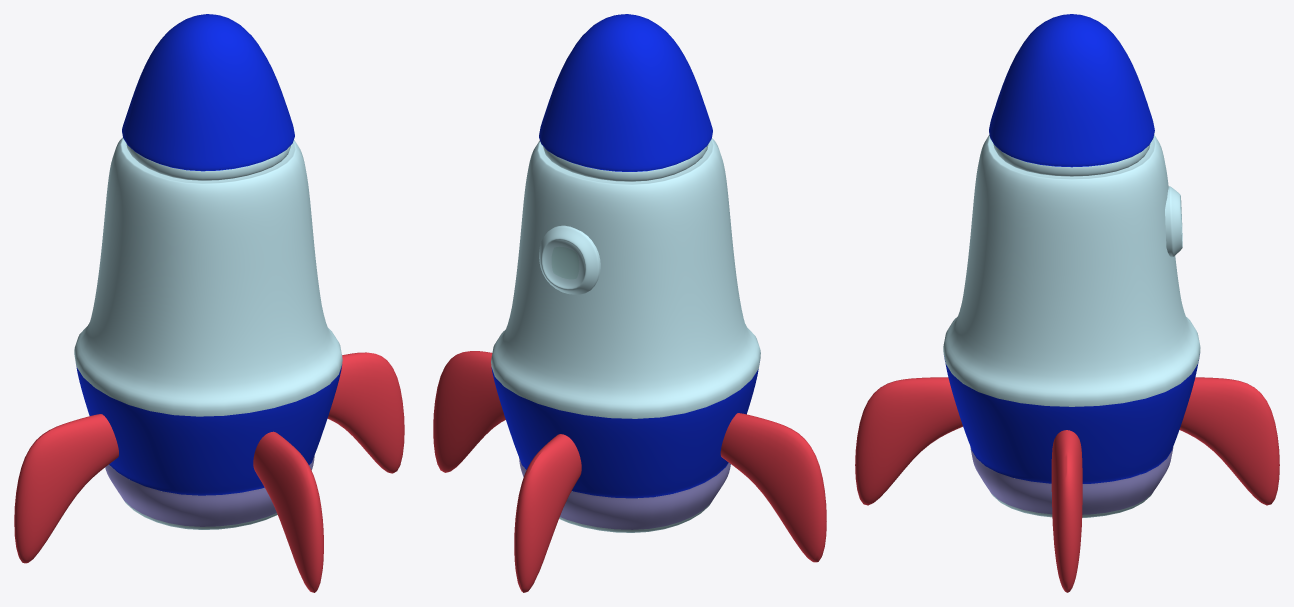
The model's file is fusee.glb.
3 views of the same model, side by side, from view 1: azimuth 30°, elevation 25°; view 2: azimuth 150°, elevation 25°; view 3: azimuth 270°, elevation 25° (orthographic). The views are drawn at different scales.
Parts seen in each view (by area): view 1: fusee; view 2: fusee; view 3: fusee.
Part boxes in pixels (x1,y1,x2,y2): fusee: (14, 14, 404, 592); fusee: (433, 14, 826, 592); fusee: (855, 14, 1279, 592).
Bounding box in the file's own units: 4.81 × 5.88 × 4.65.
